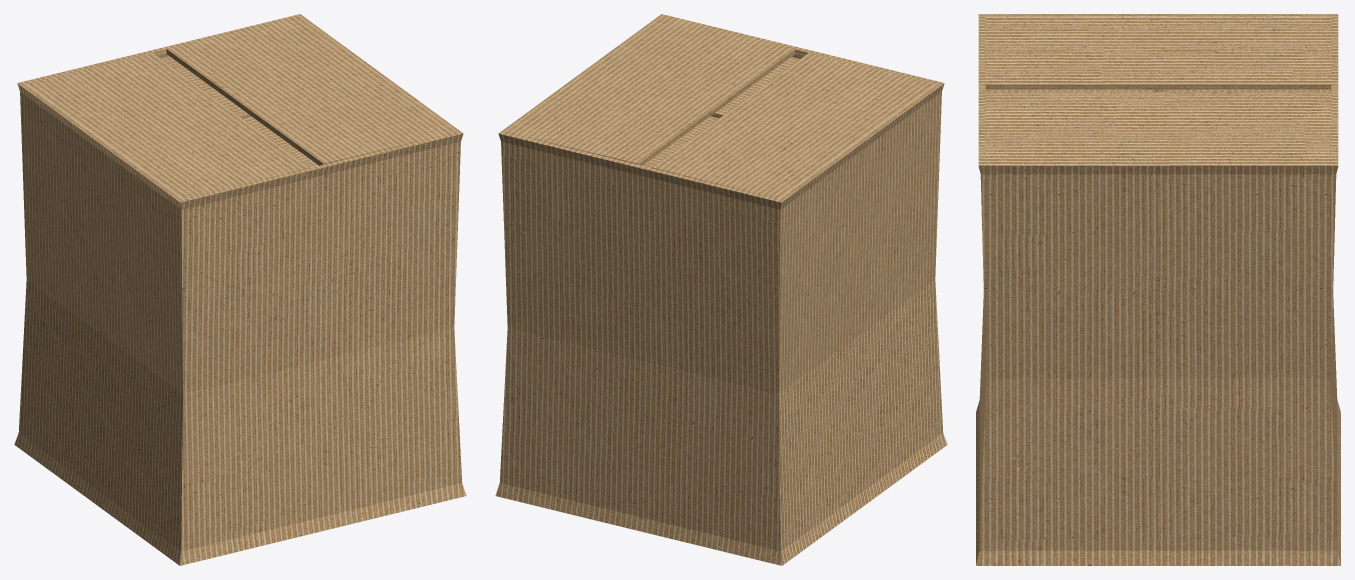
The model's file is caja_carton_cerrada.fbx.
3 views of the same model, side by side, from view 1: azimuth 30°, elevation 25°; view 2: azimuth 150°, elevation 25°; view 3: azimuth 270°, elevation 25° (orthographic). The views are drawn at different scales.
Visible parts, largest first — view 1: closedCarboardCrate:Mesh; view 2: closedCarboardCrate:Mesh; view 3: closedCarboardCrate:Mesh.
Boxes of the visible parts, x1,y1,x2,y2 form: closedCarboardCrate:Mesh: (14, 14, 466, 565); closedCarboardCrate:Mesh: (495, 14, 947, 565); closedCarboardCrate:Mesh: (976, 14, 1340, 565).
Bounding box in the file's own units: 2 × 2.42 × 2.
Materials: 1 (1 with a texture image).
